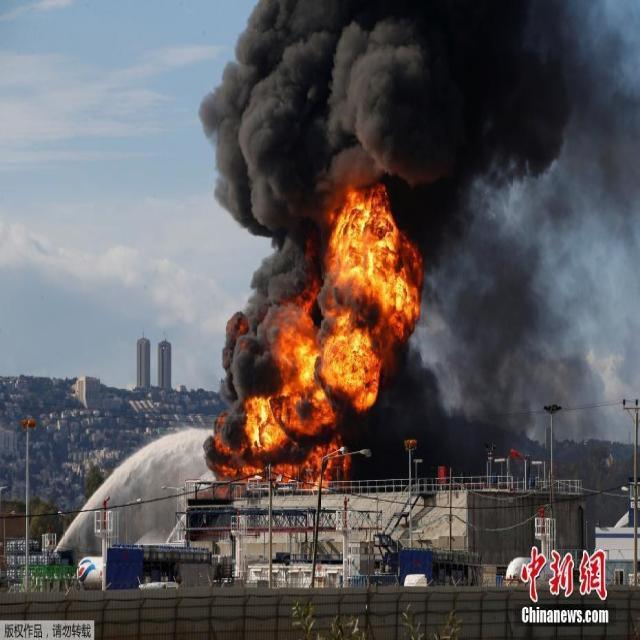Fire: (210, 184, 424, 490)
Smoke: (197, 1, 640, 484)
